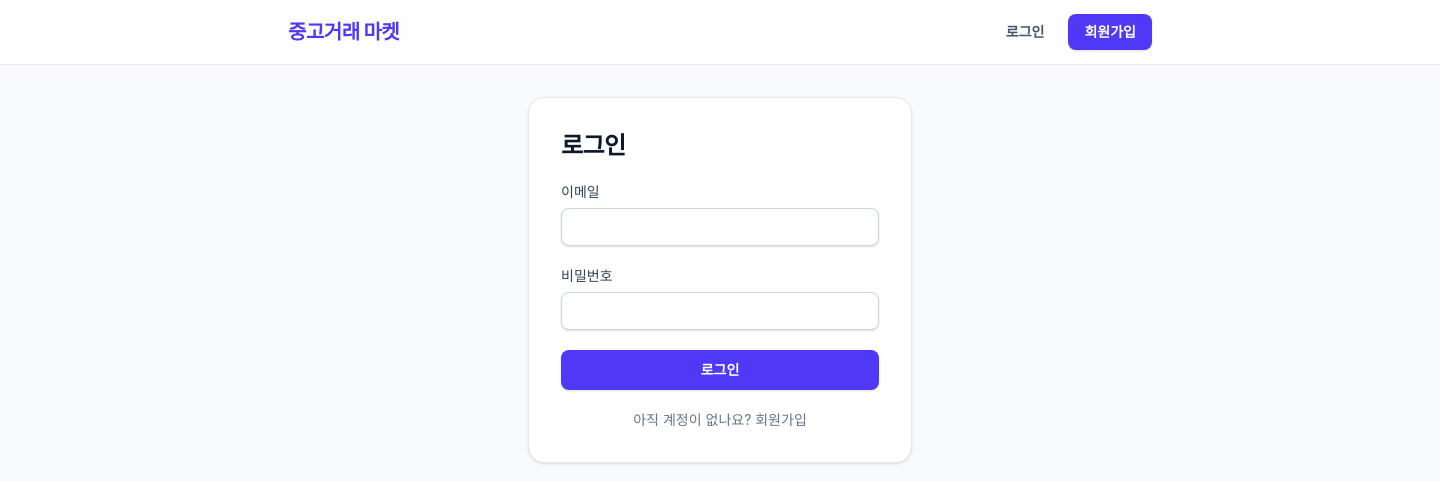
Test case: 로그인 성공 시 헤더에 닉네임이 보이고 로그아웃하면 사라진다
In the field labelled "이메일": (720, 227) 561,208 -> 879,246, type "a@b.com"
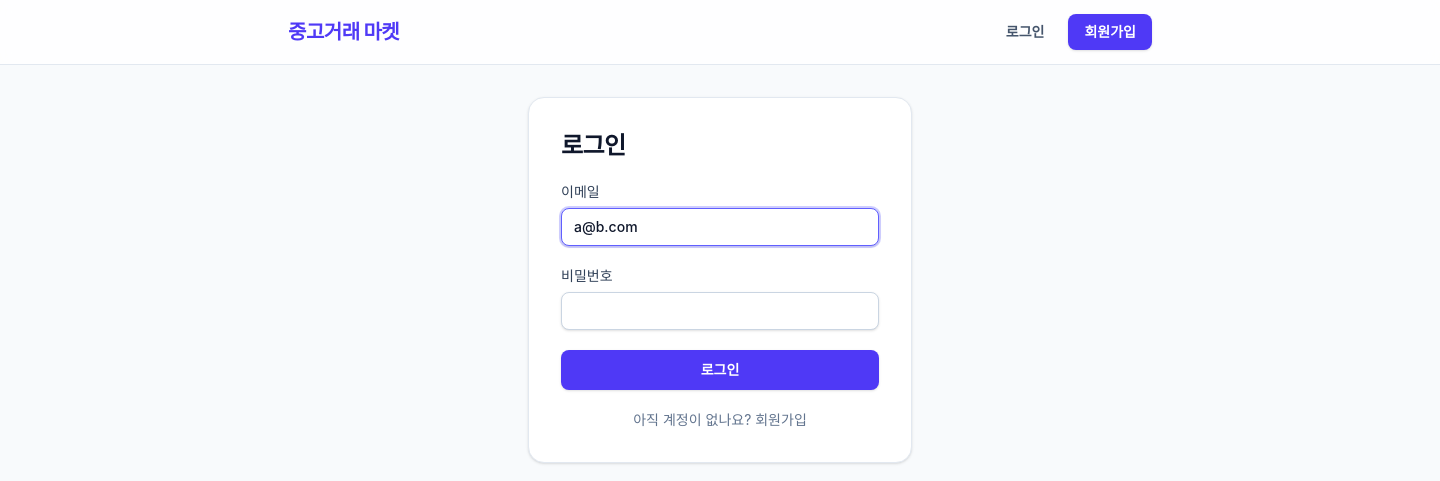
In the password field labelled "비밀번호": (720, 311) 561,292 -> 879,330, type "password123"
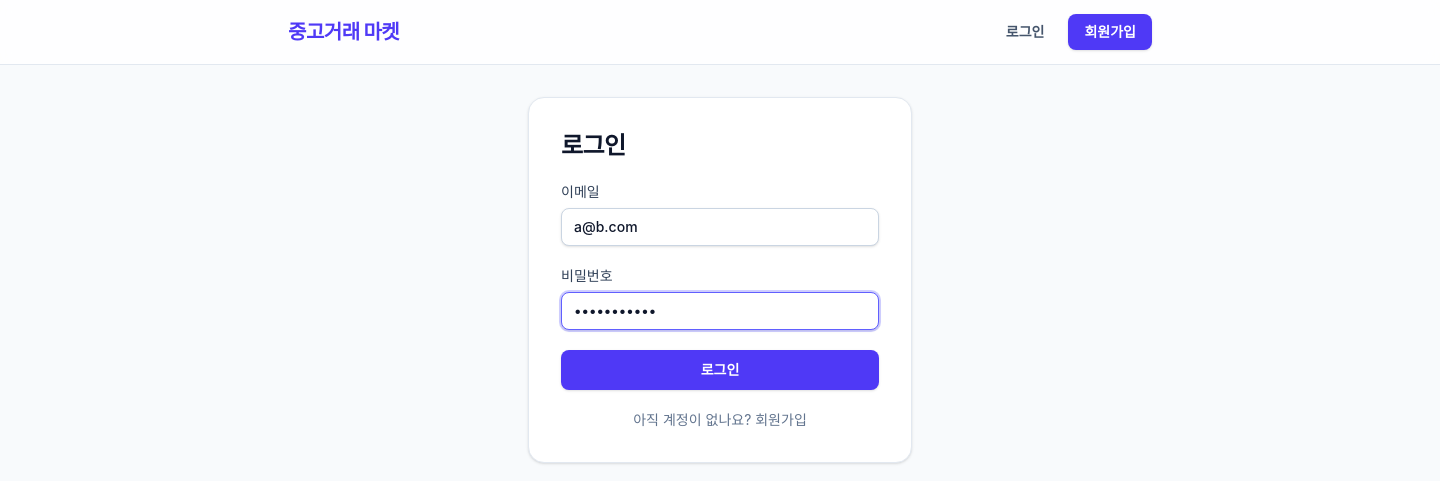
Click the button "로그인": (720, 370) 561,350 -> 879,390
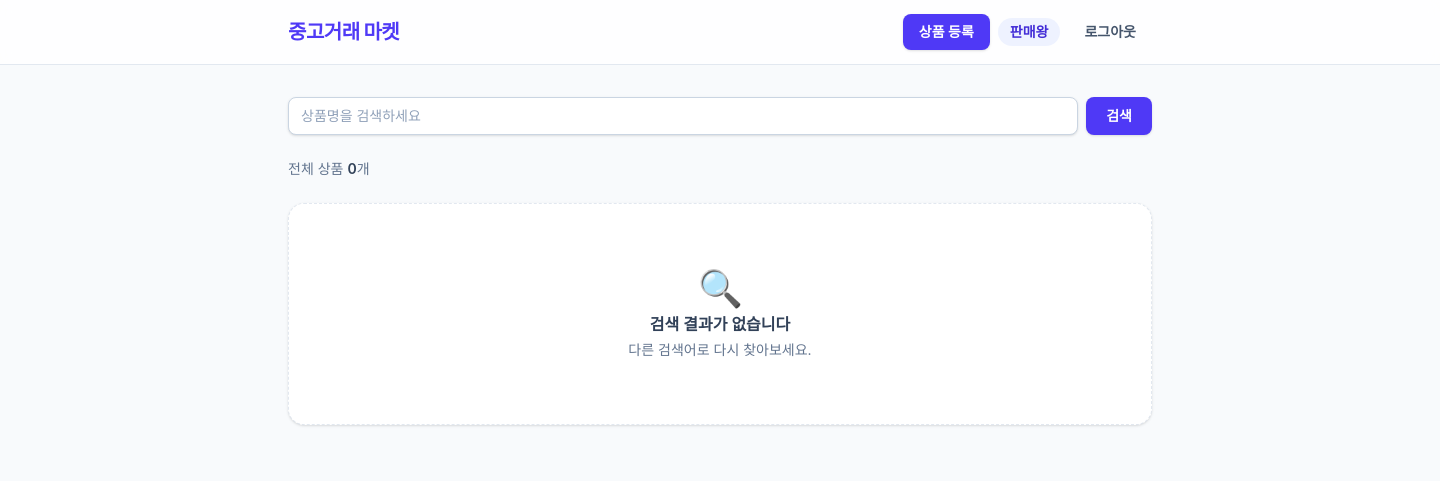
Expected: the text with test id "header-nickname" reads "판매왕", 1010,23 -> 1048,40
Click the button "로그아웃": (1110, 32) 1068,14 -> 1152,50
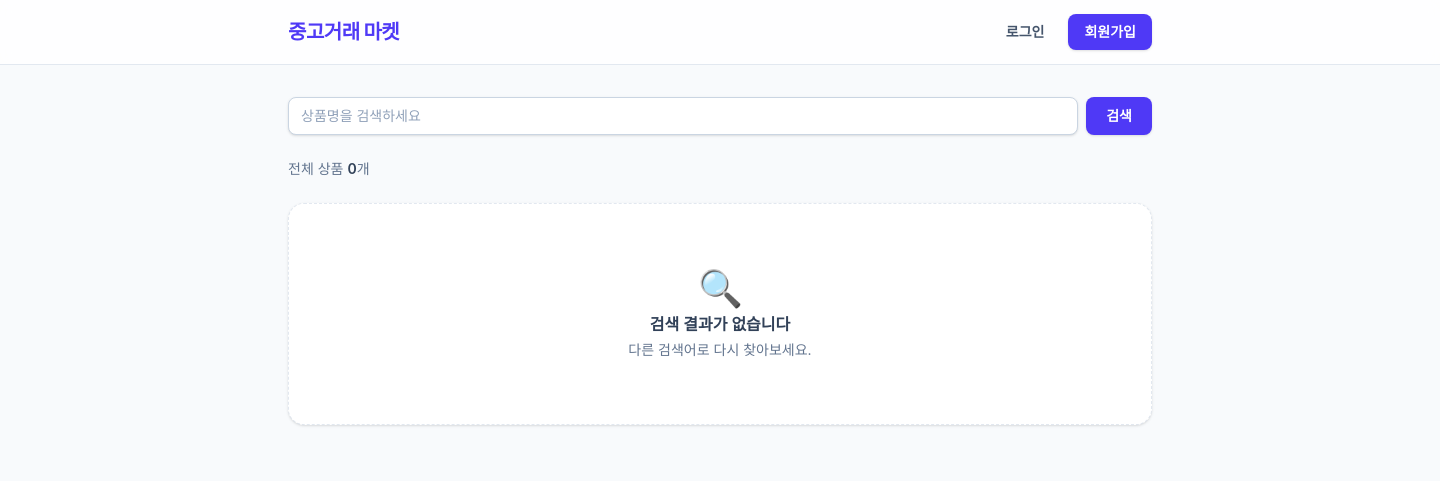
Expected: the text with test id "header-nickname" is gone
